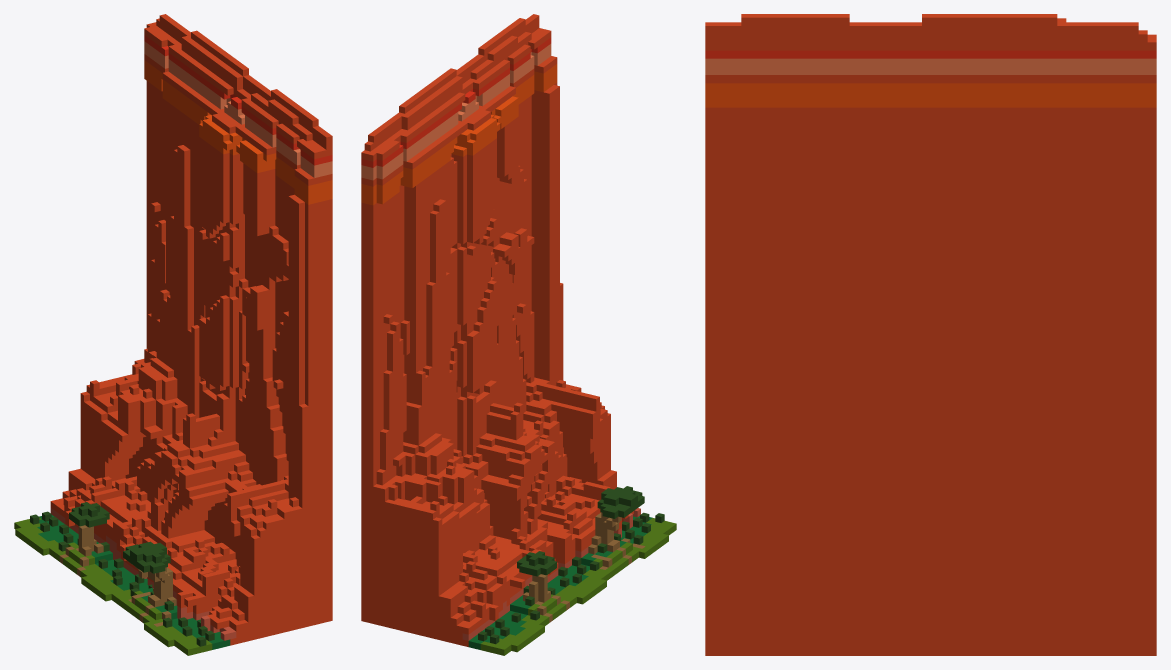
The model's file is western12.obj.
3 views of the same model, side by side, from view 1: azimuth 30°, elevation 25°; view 2: azimuth 150°, elevation 25°; view 3: azimuth 270°, elevation 25° (orthographic). The views are drawn at different scales.
Size of the model in its own units: 2.5 by 7.8 by 5.
1 material, 1 textured.
